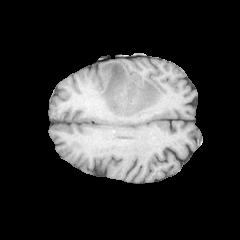glioma: (98, 60, 162, 117)
